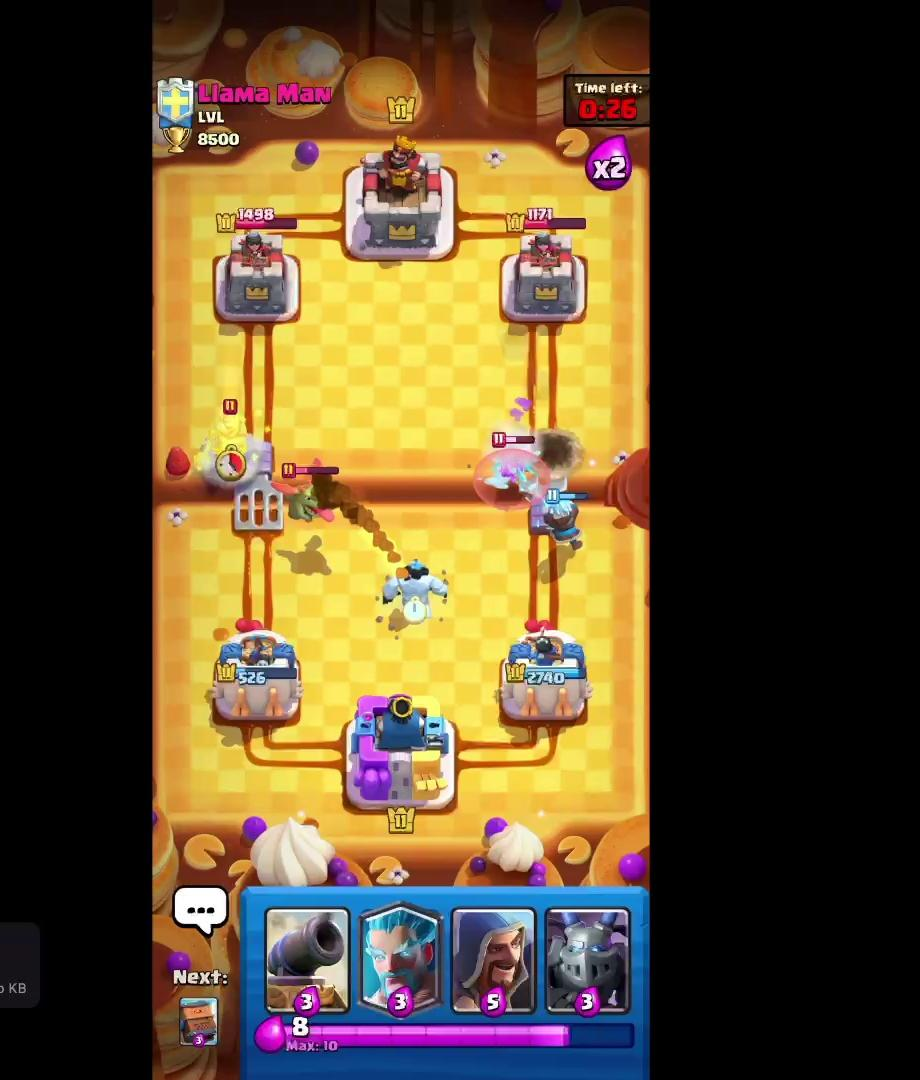Baby Dragon: (262, 454, 379, 539)
